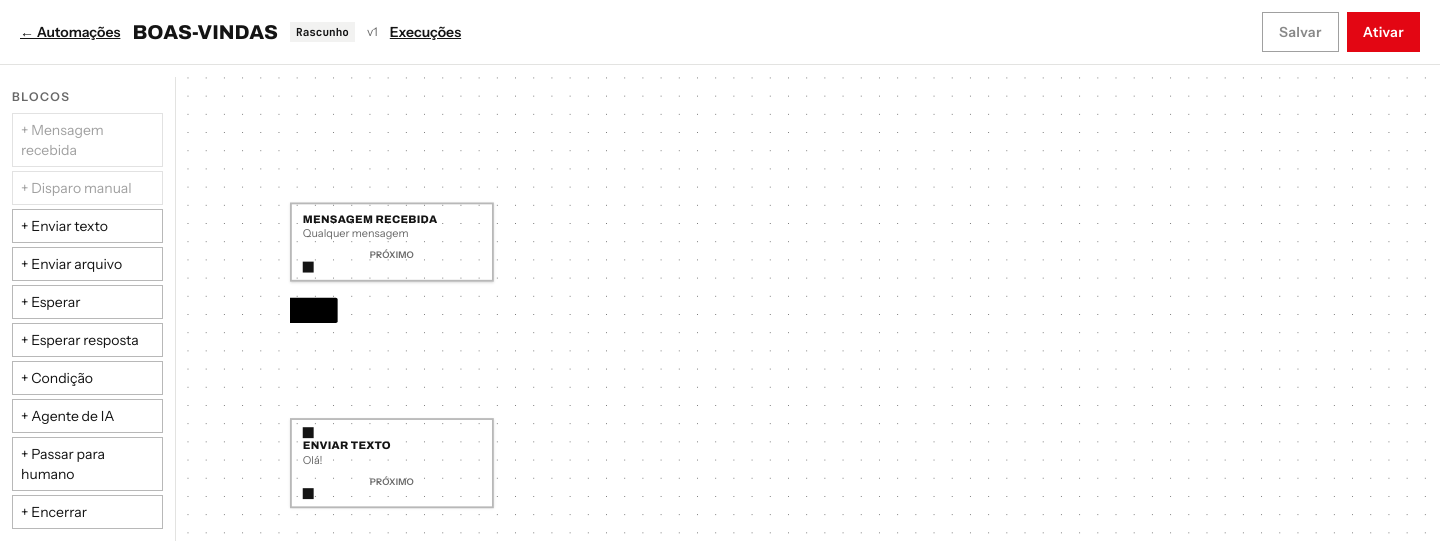
Scenario: FlowEditor › saves the graph and shows the new version
What coordinates should you click on to do the following:
click the button with aria-label "Adicionar Encerrar"
I would click on:
 (88, 512)
Its box is x1=12 y1=495 x2=163 y2=529.
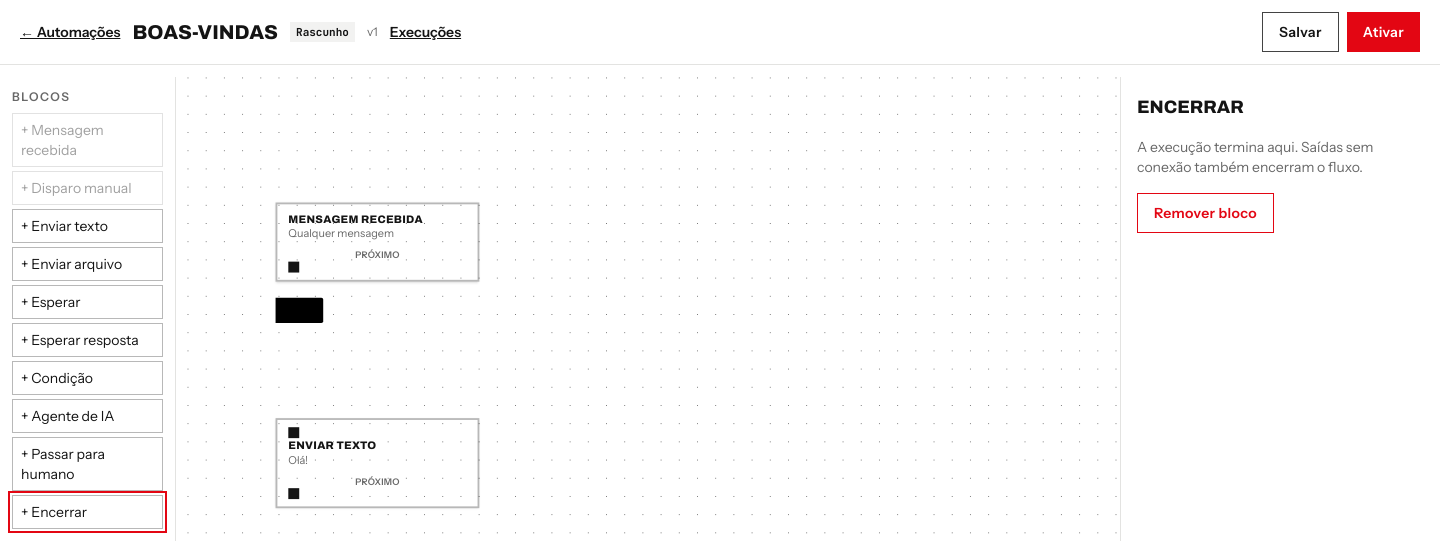
What coordinates should you click on to do the following:
click the button "Salvar"
I would click on:
 (1300, 32)
Its box is x1=1262 y1=12 x2=1339 y2=52.
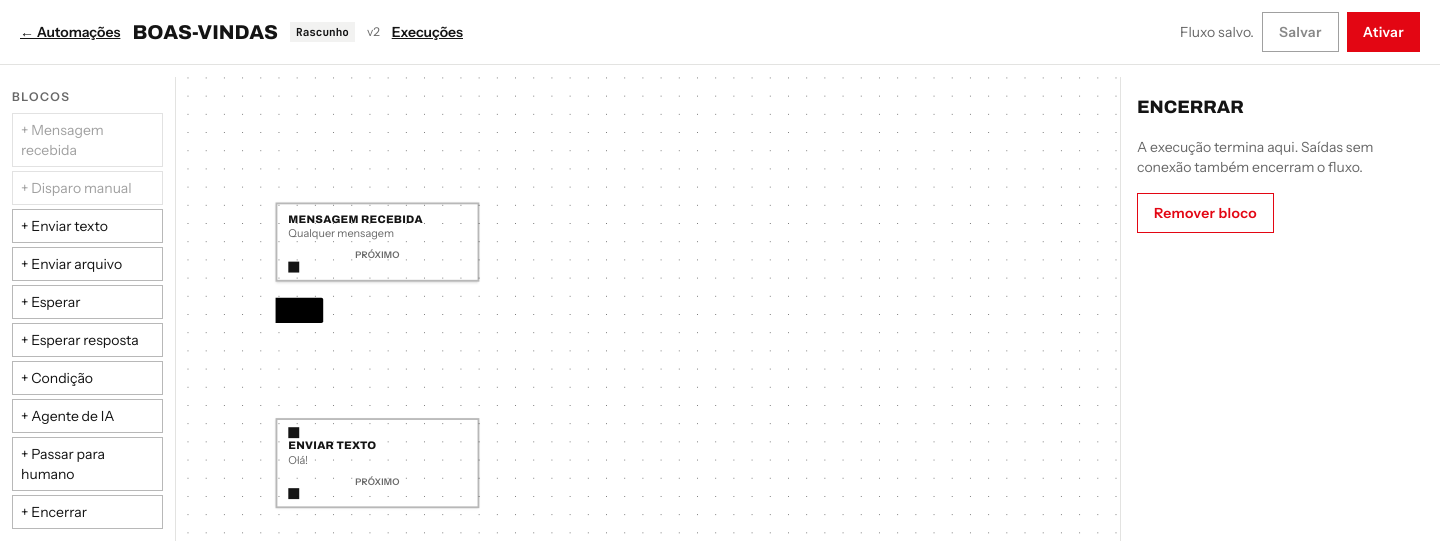
Check: the text "Fluxo salvo." is shown, box x1=1180 y1=22 x2=1254 y2=42
